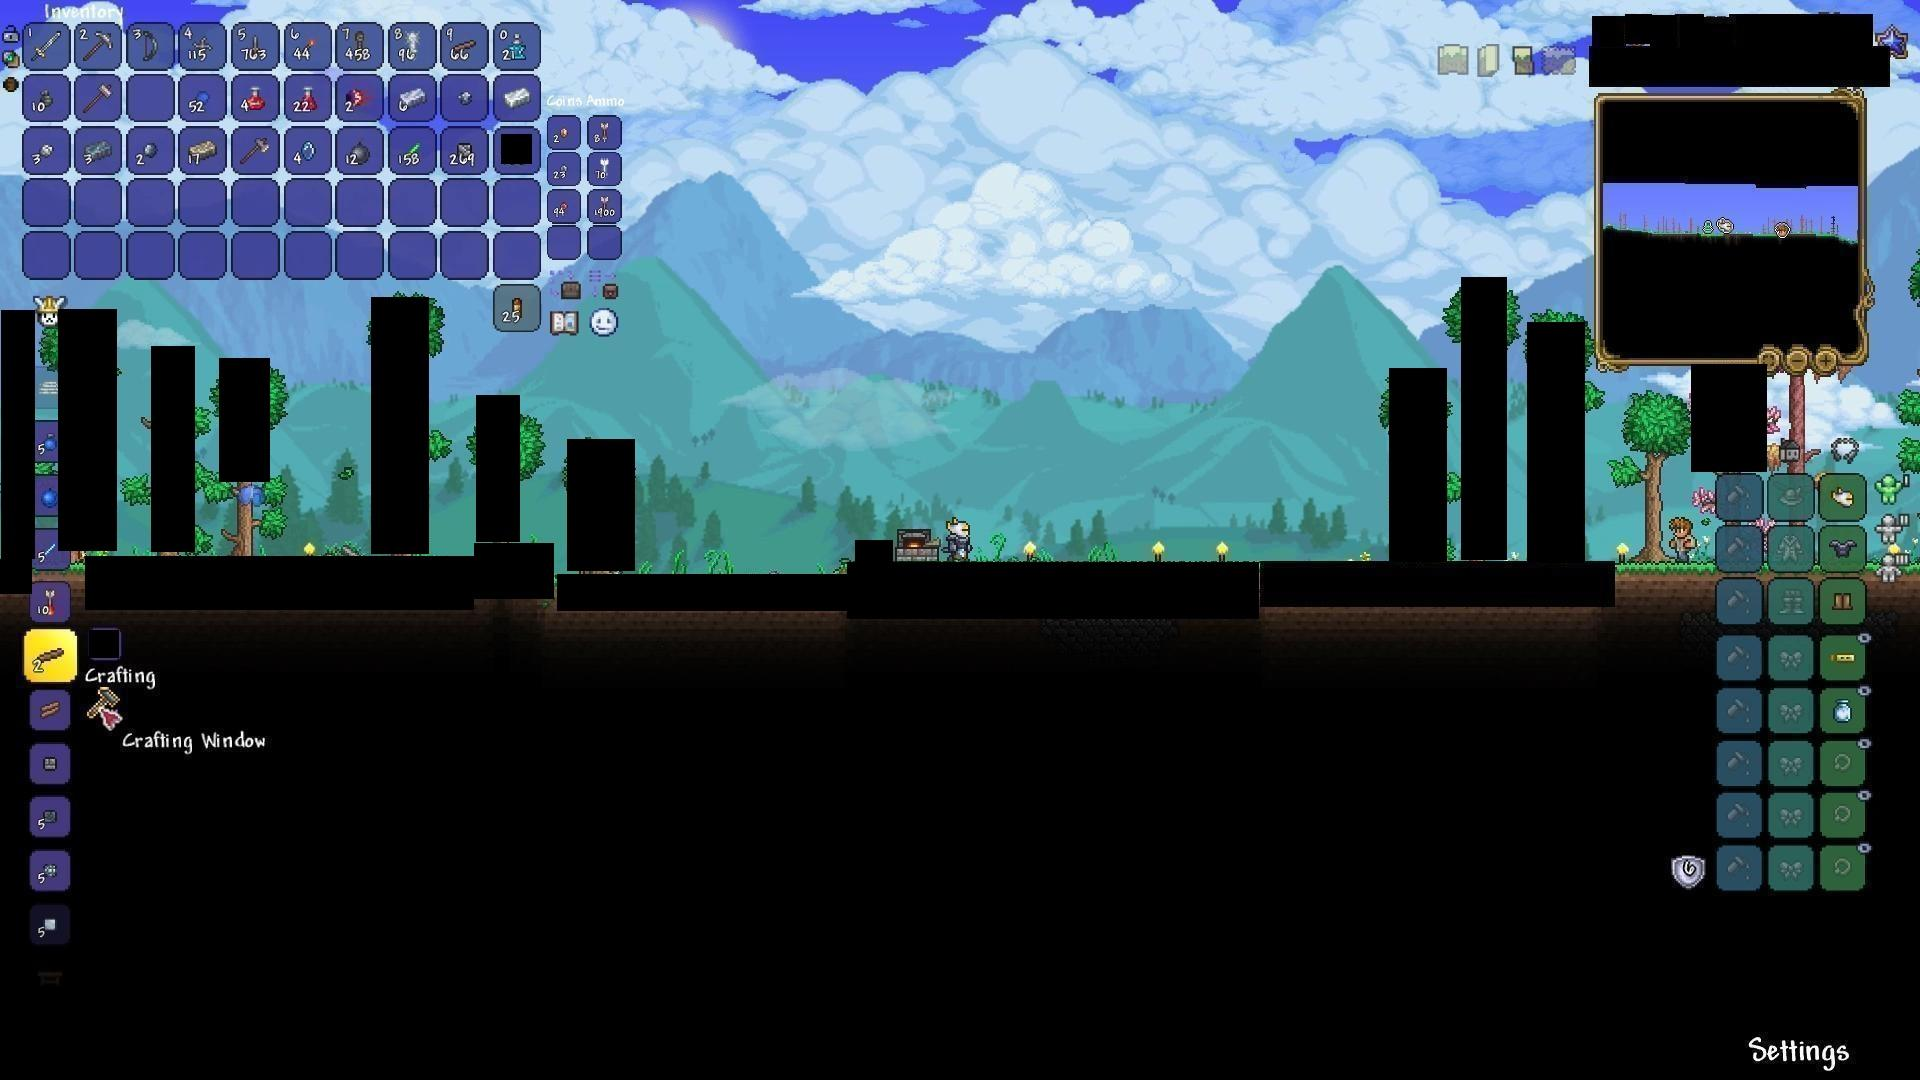breastplate: (1830, 539, 1858, 559)
dirt: (1621, 556, 1713, 601)
legs: (1830, 589, 1857, 615)
slime: (232, 484, 266, 509)
tree: (1630, 392, 1688, 554)
wood: (37, 696, 65, 723)
